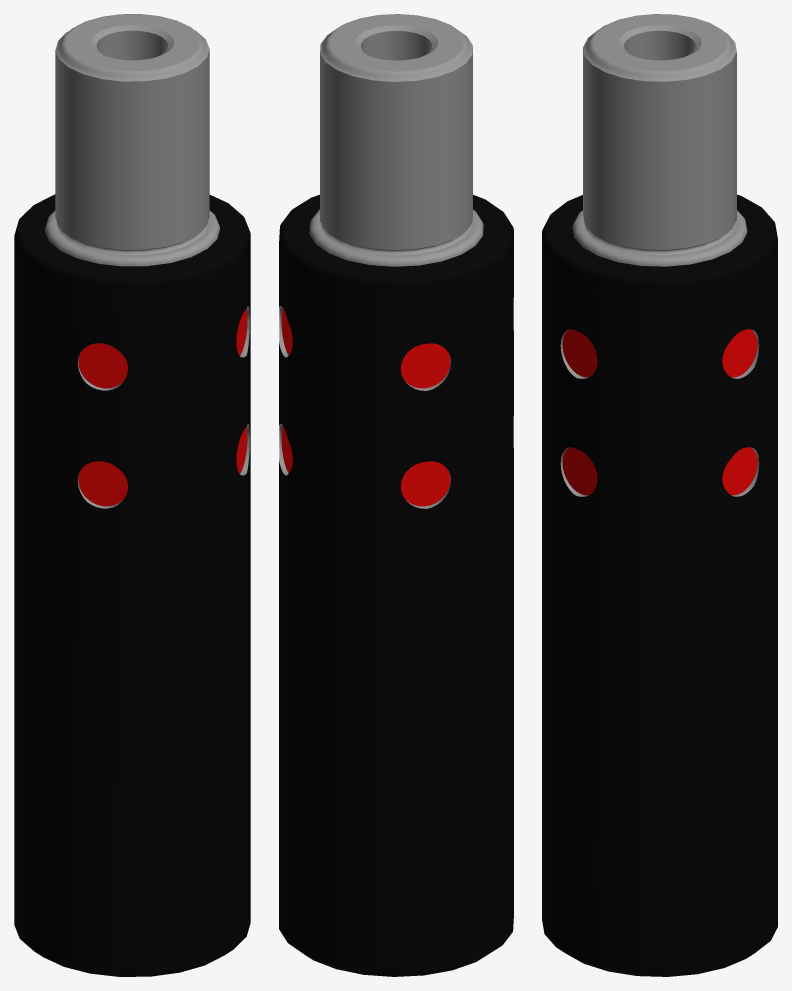
File: АВАРИЙНЫЙ РАЗЪЕДИНИТЕЛЬ.FBX
The picture shows the model from 3 angles, left to right: view 1: azimuth 30°, elevation 25°; view 2: azimuth 150°, elevation 25°; view 3: azimuth 270°, elevation 25°; orthographic projection.
Parts seen in each view (by area): view 1: Shape1; view 2: Shape1; view 3: Shape1.
Boxes of the visible parts, left/top/right/bottom form: Shape1: left=14, top=14, right=250, bottom=976; Shape1: left=279, top=14, right=513, bottom=976; Shape1: left=542, top=14, right=777, bottom=976.
Size of the model in its own units: 18.63 by 77.46 by 18.63.
